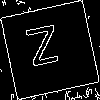Z: (25, 24, 63, 76)
